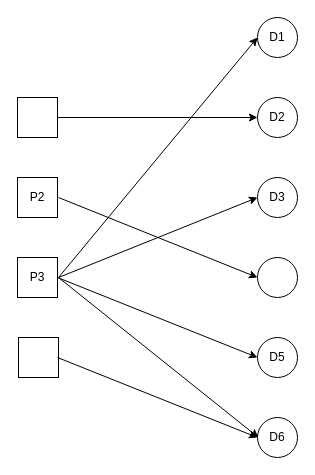
This 315x475 diagram has some shape labels left out. Each missing label, with the box of its shape:
D4: (256, 256, 298, 298)
P1: (16, 96, 58, 138)
P4: (18, 336, 58, 378)
